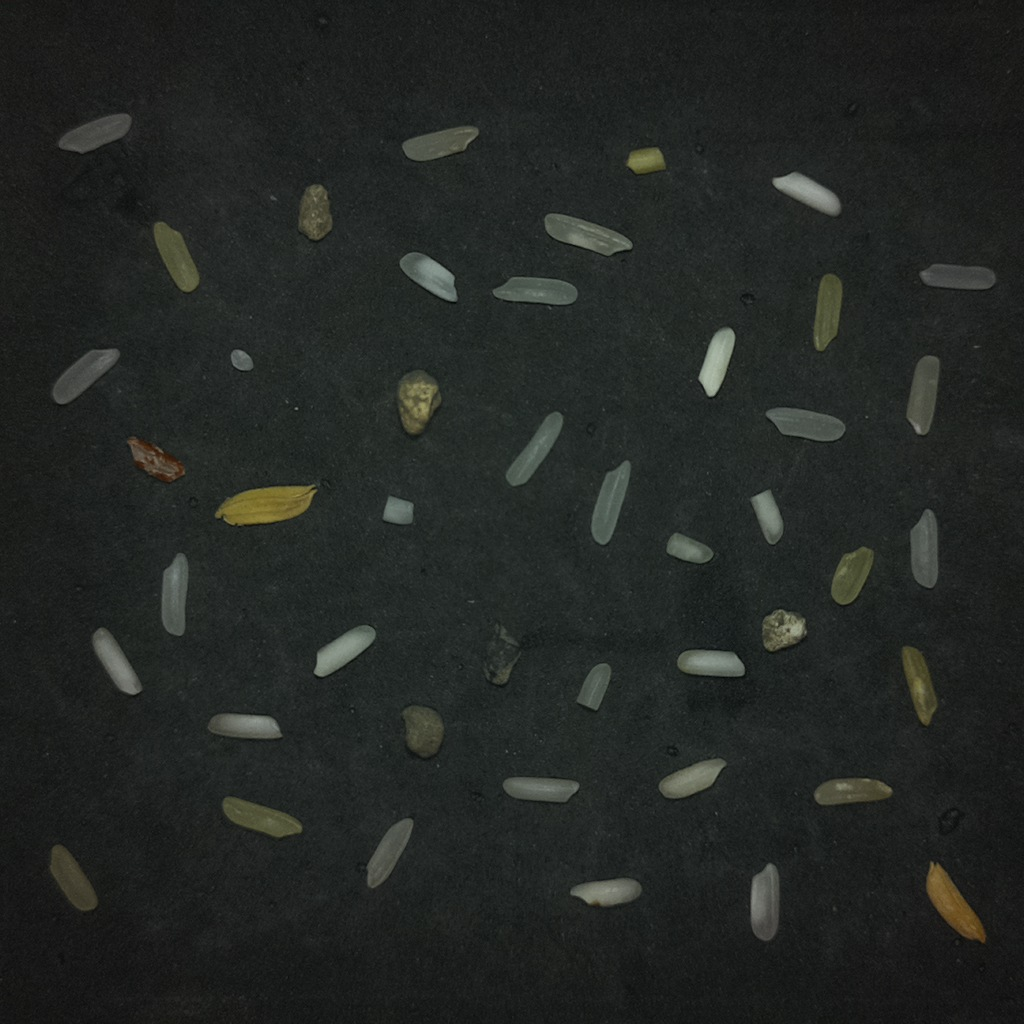broken: (50, 844, 97, 911), (57, 113, 131, 153), (400, 252, 457, 302), (60, 113, 131, 152), (402, 126, 478, 161), (910, 509, 939, 589), (814, 778, 892, 805), (207, 713, 281, 739), (749, 489, 783, 544), (576, 663, 611, 710), (666, 533, 712, 563), (626, 147, 665, 174), (382, 495, 413, 524), (230, 350, 253, 371)
chalky: (92, 627, 141, 694), (314, 625, 375, 677), (773, 172, 841, 216), (698, 328, 735, 397)
discolored: (222, 797, 302, 838), (153, 222, 199, 292), (901, 646, 936, 725), (831, 546, 873, 605), (813, 273, 842, 350)
foreign: (397, 370, 442, 436), (484, 623, 521, 686), (402, 705, 444, 759), (762, 609, 807, 652), (298, 185, 332, 240)
paddy: (921, 855, 991, 951), (215, 485, 317, 526)
red: (127, 436, 184, 482)
whole: (506, 411, 564, 486), (51, 349, 119, 404), (544, 213, 632, 255), (591, 460, 631, 545), (367, 818, 414, 889), (765, 407, 845, 442), (906, 355, 940, 436), (659, 758, 726, 799), (492, 277, 576, 304), (750, 863, 779, 941), (161, 552, 188, 635), (919, 264, 996, 291), (570, 877, 641, 906), (502, 777, 578, 802), (677, 649, 744, 677)
